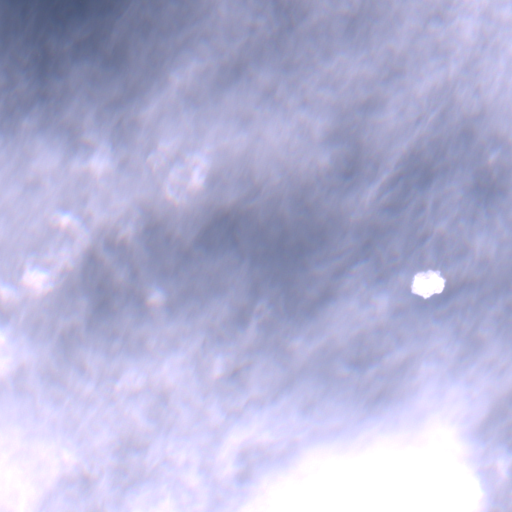Iceberg: (412, 272, 443, 298)
